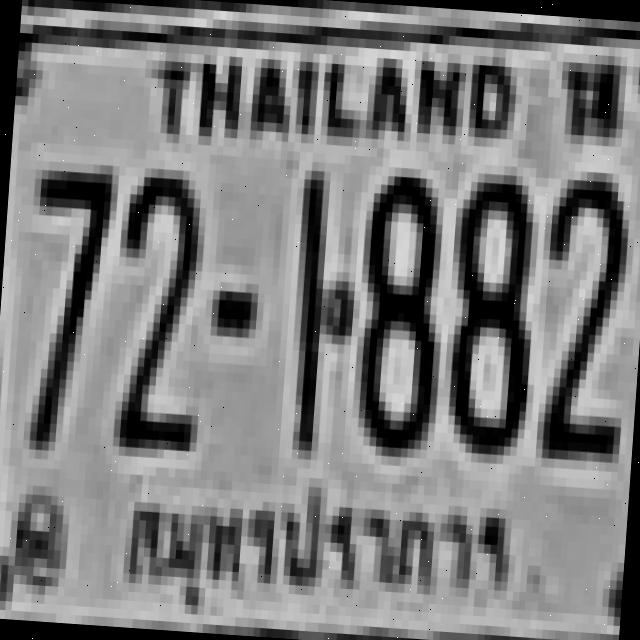2: (532, 169, 628, 453), (110, 162, 206, 446), (534, 164, 628, 430), (108, 162, 202, 419)
7: (17, 160, 112, 444), (22, 164, 112, 358)
8: (350, 166, 446, 450), (440, 162, 536, 446)
SamutPrakan: (96, 460, 537, 640)
